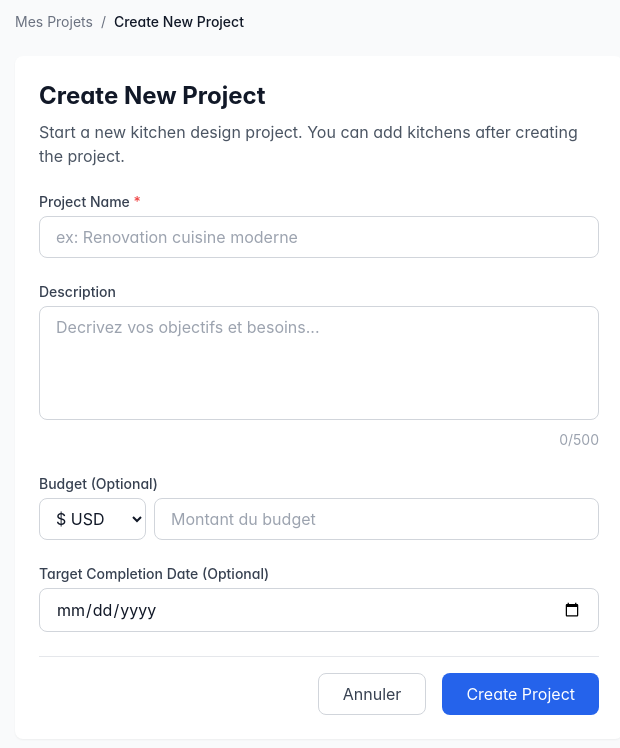
Test case: CreateProject › Form Validation › should show error when name is empty and form is submitted
What coordinates should you click on to do the following:
click the button "Create Project"
I would click on:
 (521, 694)
Its box is 442,673 -> 599,715.
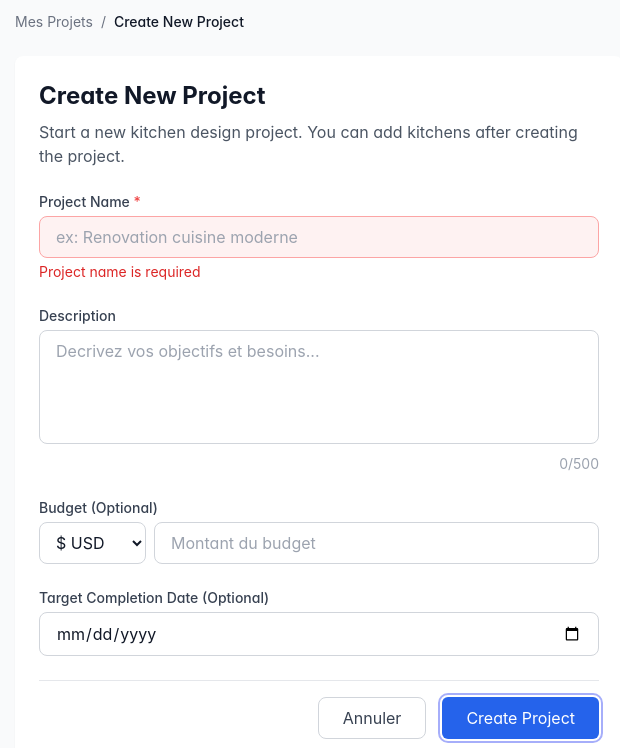
Expected: the text "Project name is required" is shown, 39,263 -> 201,280
